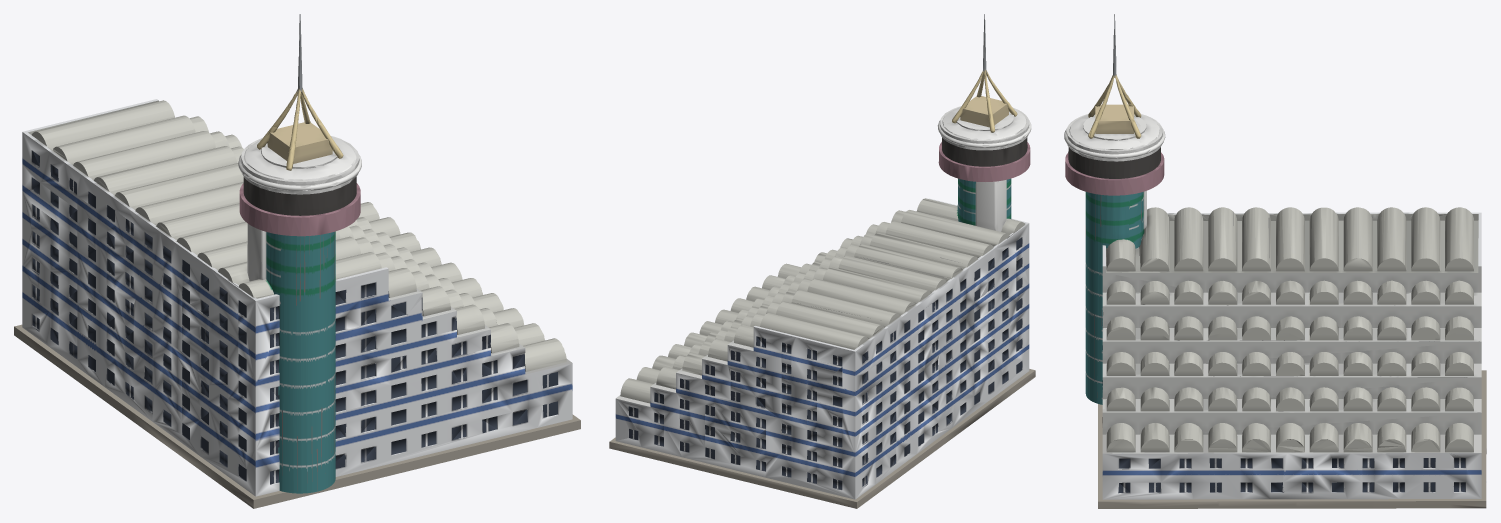
Rendered from cao_oc_sen_bien.mid.glb.
3 views of the same model, side by side, from view 1: azimuth 30°, elevation 25°; view 2: azimuth 150°, elevation 25°; view 3: azimuth 270°, elevation 25° (orthographic). The views are drawn at different scales.
Visible parts, largest first — view 1: cao_oc_sen_bien; view 2: cao_oc_sen_bien; view 3: cao_oc_sen_bien.
Boxes of the visible parts, <box> form: cao_oc_sen_bien: <box>14,14,580,508</box>; cao_oc_sen_bien: <box>609,14,1035,508</box>; cao_oc_sen_bien: <box>1064,14,1486,508</box>.
Bounding box in the file's own units: 38.55 × 53 × 52.4.
Materials: 2 (2 with a texture image).
